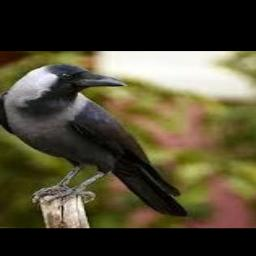Crow: (0, 63, 190, 217)
